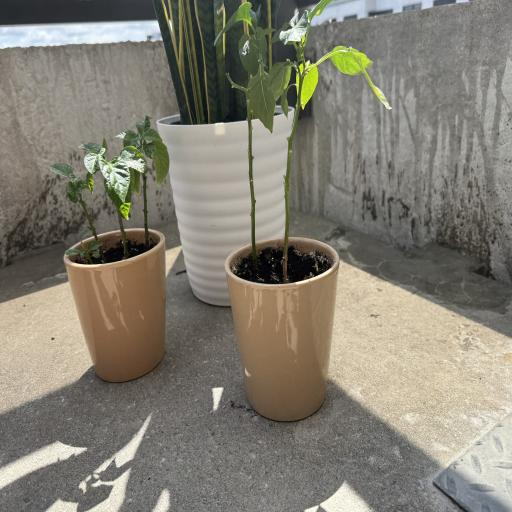Plant Pot: (157, 104, 294, 310), (225, 234, 341, 422), (65, 226, 170, 378)
